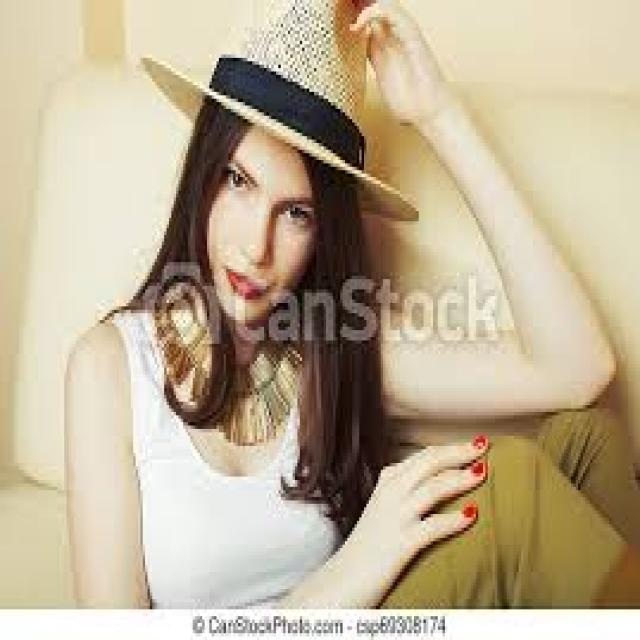hat: (136, 0, 421, 327)
